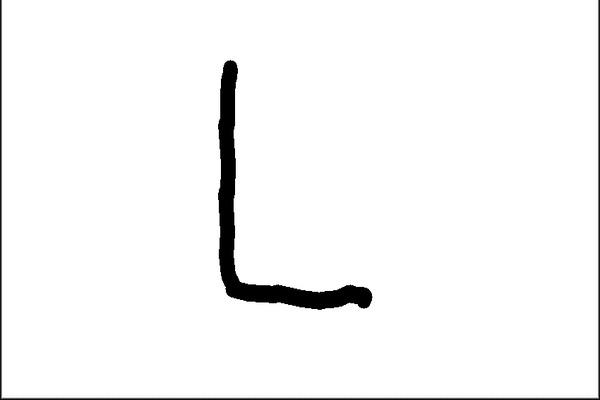L: (202, 49, 381, 317)
